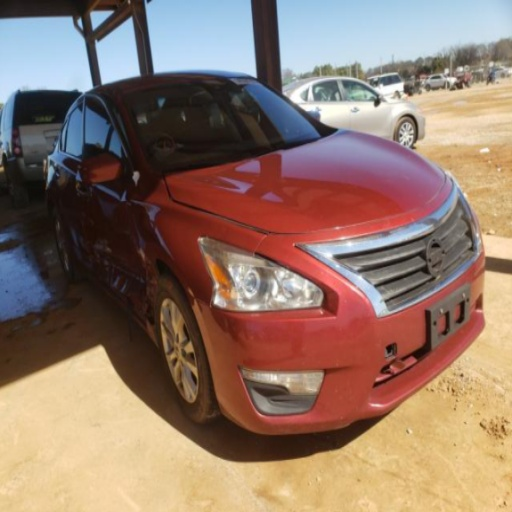dent: (126, 201, 163, 330), (93, 239, 134, 303)
scratch: (93, 245, 112, 254), (137, 248, 146, 264), (112, 274, 121, 287), (120, 279, 128, 292)
